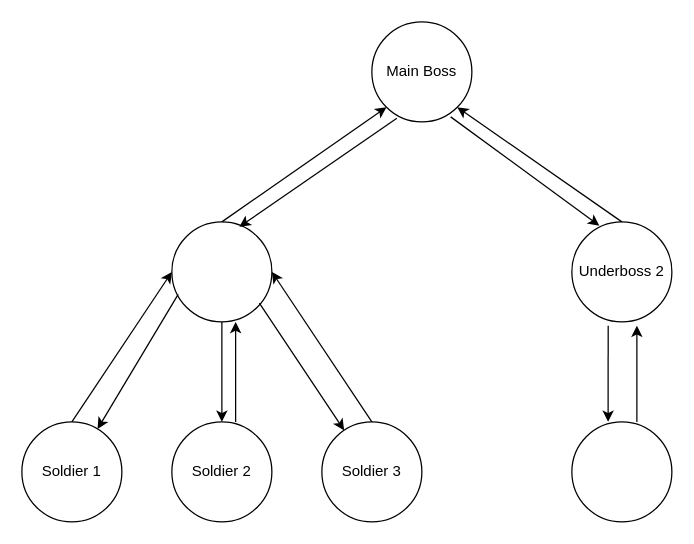
Image size: 694x544. Some labels were removed from this diagram. The shapes that lost their labels are listed below. From the top down, each one's box as (x1, y1, x2, y2) in pixels, then its label:
(171, 221, 272, 322): Underboss 1
(571, 421, 672, 522): Soldier 4
